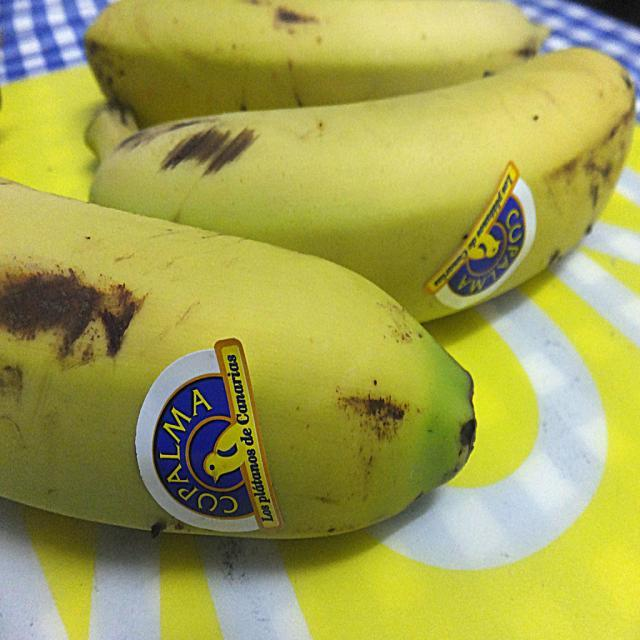Banana: (0, 174, 472, 539), (92, 47, 635, 325), (84, 0, 552, 130)
